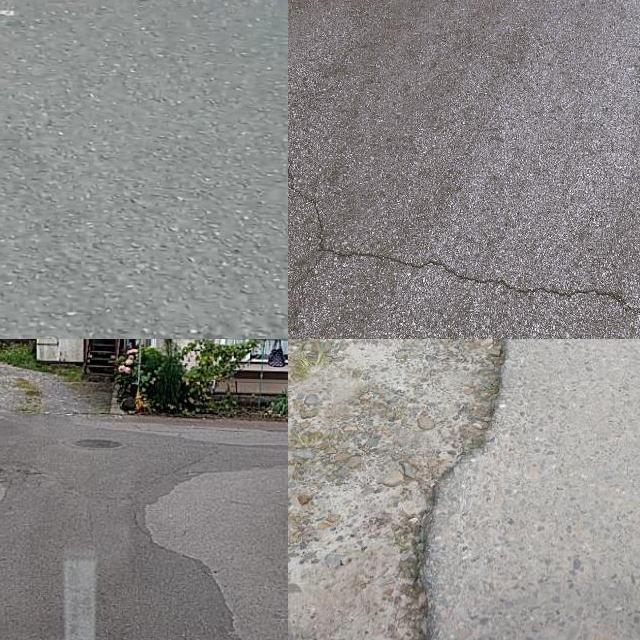Melintang: (312, 233, 640, 315)
Pinggir: (387, 339, 518, 640)
Sambungan: (143, 467, 288, 640)
